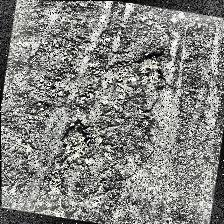pothole: (56, 116, 93, 164), (133, 48, 167, 88)
